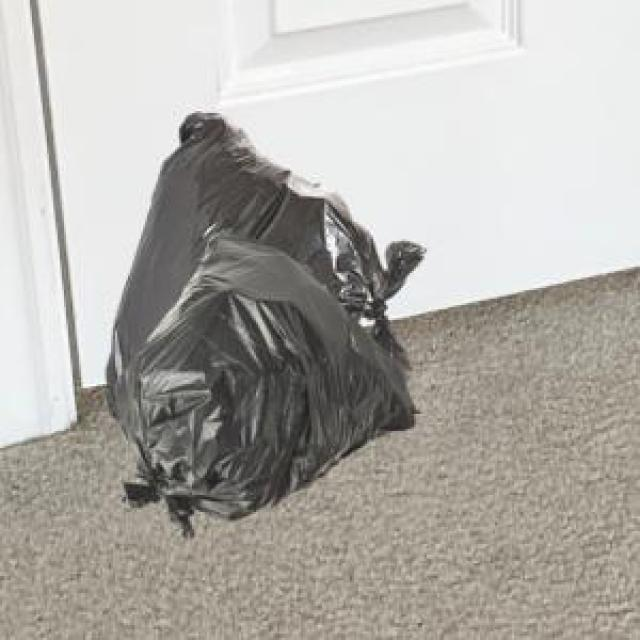Trashbag: (84, 105, 436, 544)
